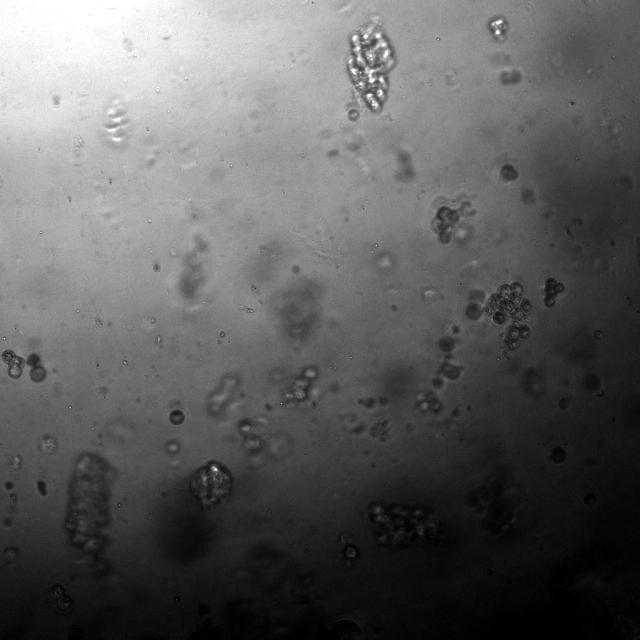organoid: (64, 453, 115, 573), (465, 282, 533, 358), (347, 21, 395, 111), (417, 326, 462, 414), (368, 501, 442, 547), (431, 192, 476, 244), (190, 460, 232, 508), (281, 366, 318, 406), (207, 374, 241, 415), (238, 418, 263, 453), (0, 349, 24, 378), (543, 277, 565, 307), (488, 14, 509, 42), (26, 353, 46, 382), (339, 534, 359, 562), (168, 407, 187, 428), (499, 68, 521, 84), (500, 163, 518, 181), (348, 107, 360, 121), (594, 329, 604, 339)
